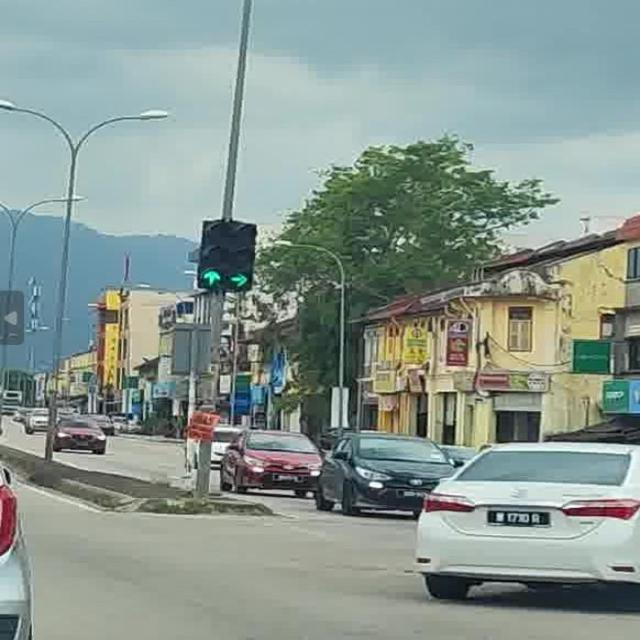car: (413, 440, 640, 611), (315, 431, 457, 520), (0, 424, 40, 640), (220, 429, 324, 499), (50, 417, 107, 455)
traffic light: (197, 220, 257, 293)
